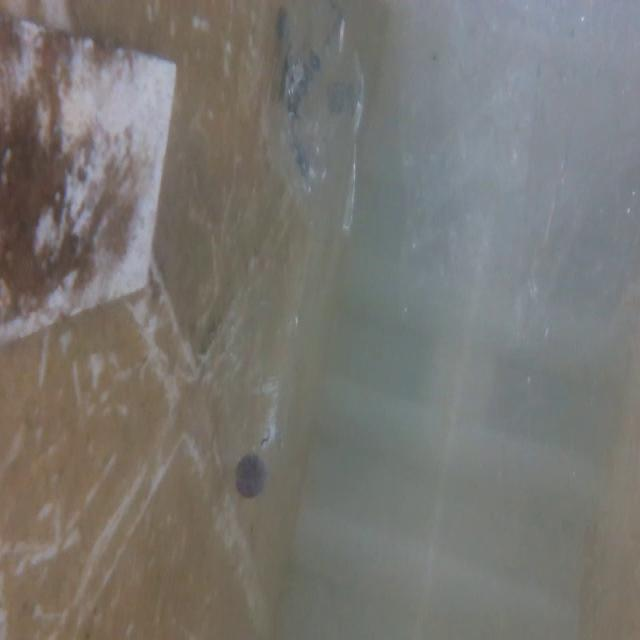metal: (0, 23, 184, 365)
plastic bags: (392, 0, 640, 377), (255, 0, 360, 234)
plastic bottle: (220, 282, 318, 519)
